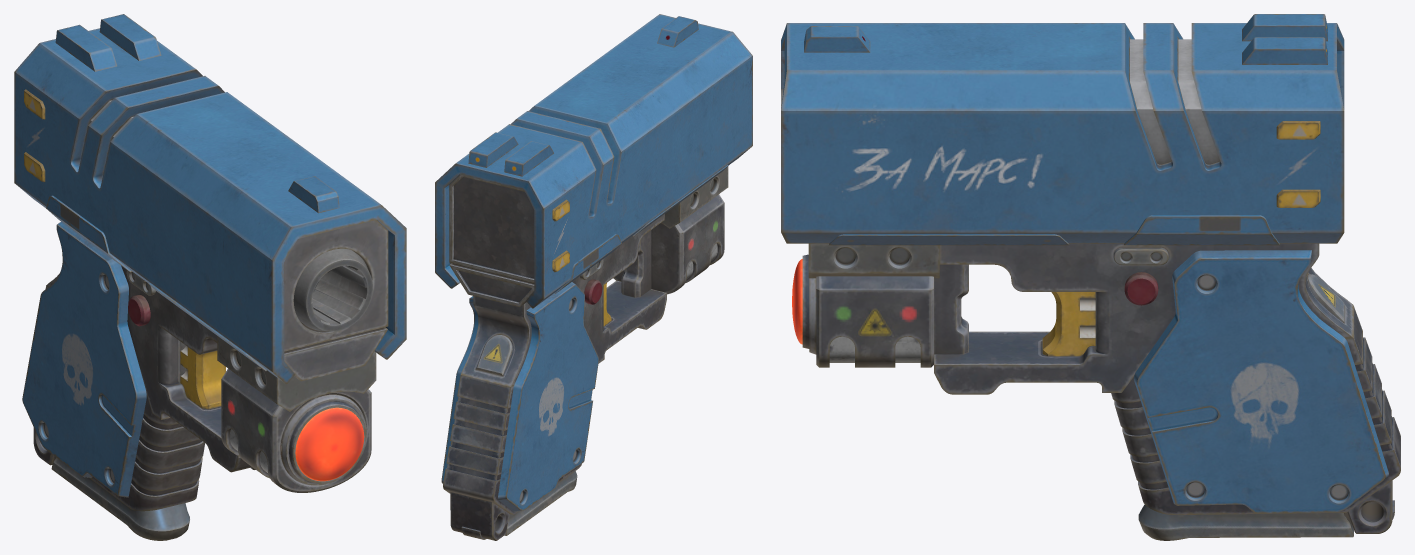
The model's file is stylized_sci-fi_handgun.glb.
The picture shows the model from 3 angles, left to right: view 1: azimuth 30°, elevation 25°; view 2: azimuth 150°, elevation 25°; view 3: azimuth 270°, elevation 25°; orthographic projection. The views are drawn at different scales.
Visible parts, largest first — view 1: receiver_low, krishka_low, stvol_low, frame_low, lazer_block_low, rukoyatka_low, barrel_low, podstvol_low, glass_low, celik_low, magazin_low, glass_frame_low (+5 smaller); view 2: receiver_low, krishka_low, stvol_low, frame_low, rukoyatka_low, lazer_block_low, vistup_low, celik_low, trigger_frame_low, podstvol_low, magazin_low, battery_low (+2 smaller); view 3: receiver_low, krishka_low, frame_low, lazer_block_low, rukoyatka_low, magazin_low, podstvol_low, celik_low, virez_zad_low, stvol_low, trigger_frame_low, trigger_low (+10 smaller).
Part boxes in pixels (x1,y1,x2,y2): receiver_low: (14,28,406,384); krishka_low: (22,221,146,497); stvol_low: (90,100,388,381); frame_low: (46,265,282,472); lazer_block_low: (221,368,371,492); rukoyatka_low: (45,286,204,511); barrel_low: (293,248,372,331); podstvol_low: (217,336,376,411); glass_low: (295,407,364,481); celik_low: (55,14,161,71); magazin_low: (51,457,189,540); glass_frame_low: (281,394,366,485); receiver_low: (435,14,752,308); krishka_low: (441,282,598,511); stvol_low: (449,174,534,307); frame_low: (460,214,666,386); rukoyatka_low: (443,375,581,514); lazer_block_low: (613,194,724,294); vistup_low: (450,492,509,540); celik_low: (468,132,553,176); trigger_frame_low: (621,230,651,297); podstvol_low: (661,166,728,228); magazin_low: (504,471,577,535); battery_low: (476,335,512,375); receiver_low: (781,23,1344,243); krishka_low: (1134,250,1388,513); frame_low: (934,243,1353,394); lazer_block_low: (816,276,933,367); rukoyatka_low: (1111,306,1400,514); magazin_low: (1138,504,1353,540); podstvol_low: (808,243,939,278); celik_low: (1242,14,1327,64); virez_zad_low: (1124,215,1279,245); stvol_low: (1130,39,1220,164); trigger_frame_low: (934,264,968,354); trigger_low: (1042,292,1095,356).
Size of the model in its own units: 0.0507 by 0.1603 by 0.1803.
1 material, 1 textured.
